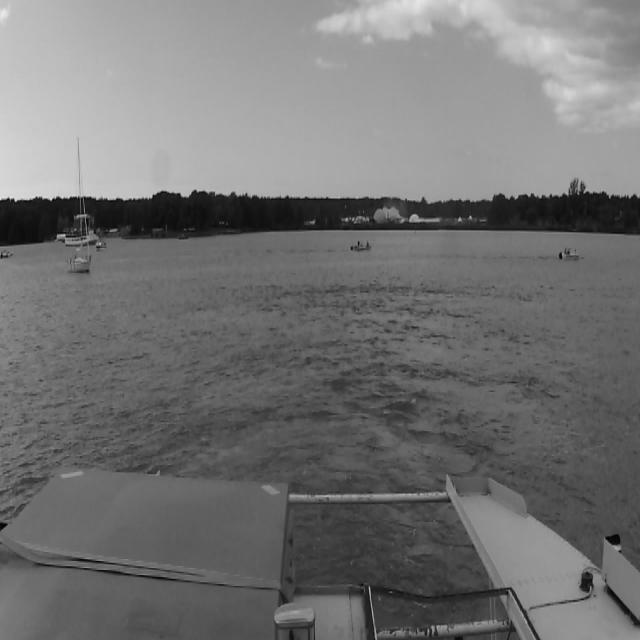ship: (67, 133, 91, 272), (62, 228, 99, 245), (558, 247, 580, 261), (350, 240, 372, 252), (96, 242, 106, 250)
